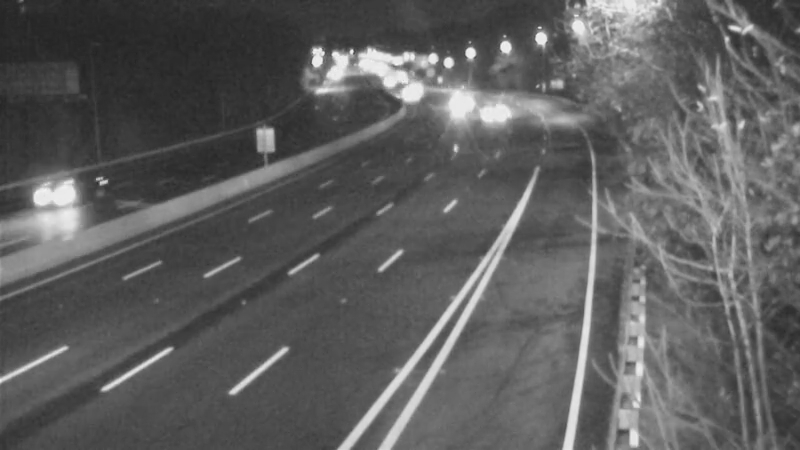vehicle: (9, 153, 89, 233), (390, 69, 440, 119), (436, 74, 486, 124), (461, 92, 511, 142)
